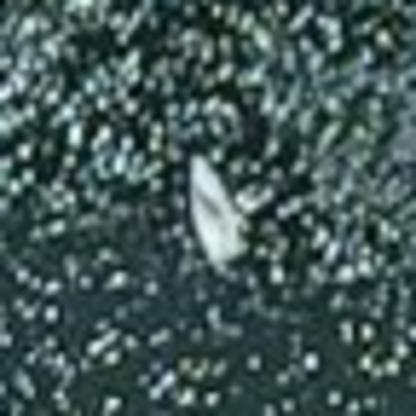ship: (178, 147, 263, 280)
